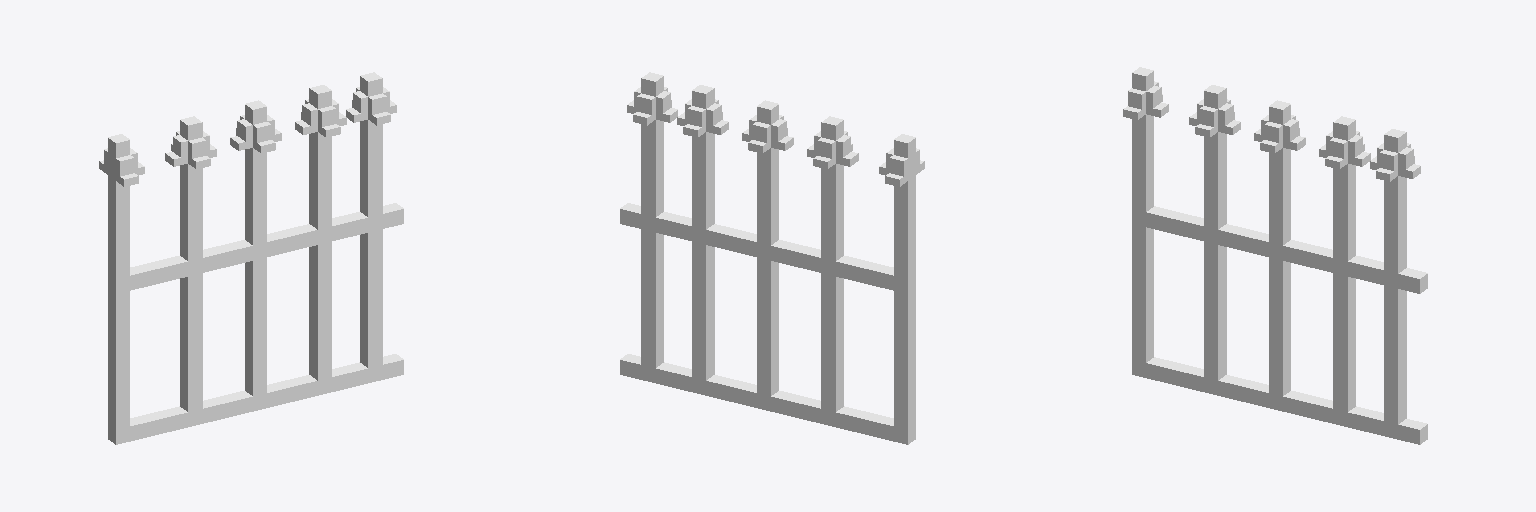
The model's file is TopFencesRight.obj.
The picture shows the model from 3 angles: view 1: azimuth 30°, elevation 25°; view 2: azimuth 150°, elevation 25°; view 3: azimuth 330°, elevation 25°; orthographic projection.
Visible parts, largest first — view 1: object 1; view 2: object 1; view 3: object 1.
Boxes of the visible parts, <box> form: object 1: <box>99,72,403,444</box>; object 1: <box>620,72,924,444</box>; object 1: <box>1123,67,1427,444</box>.
Size of the model in its own units: 4 by 4 by 0.6.